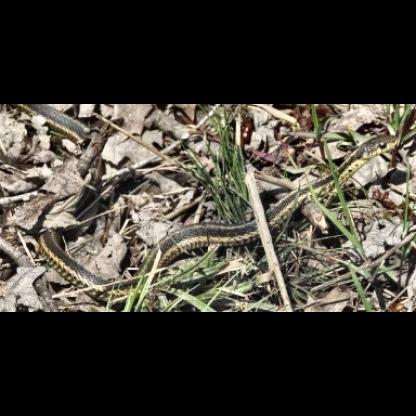Snake: (22, 106, 400, 295)
